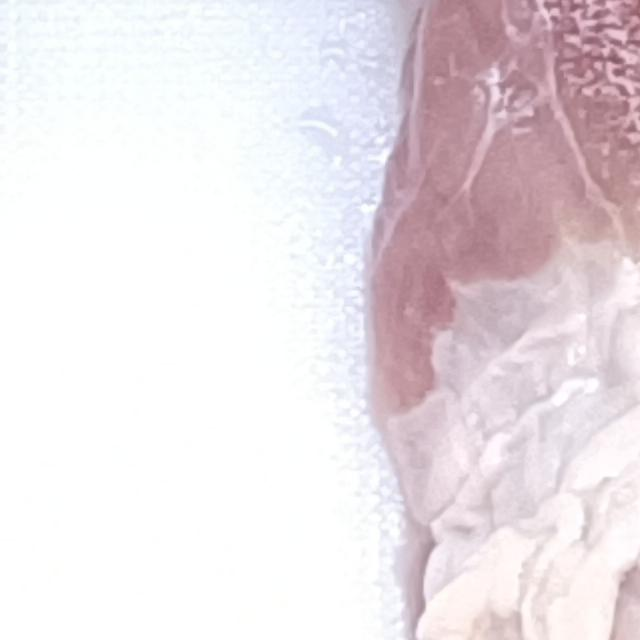pork: (176, 0, 640, 640)
